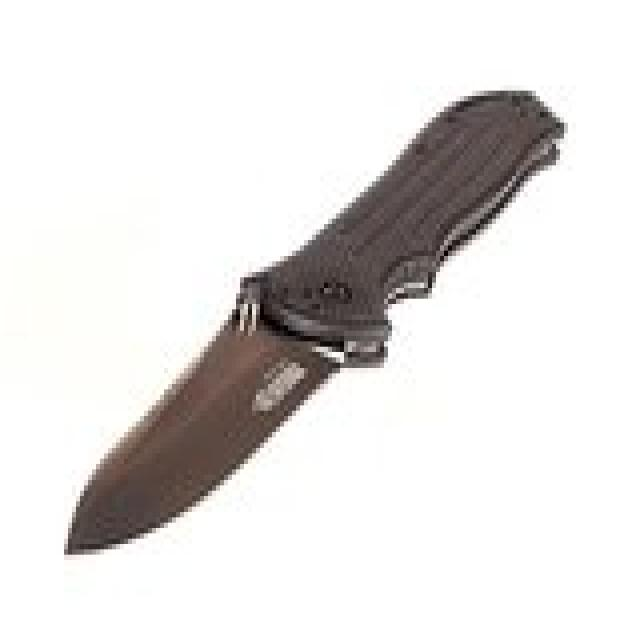Knife: (36, 70, 578, 568)
